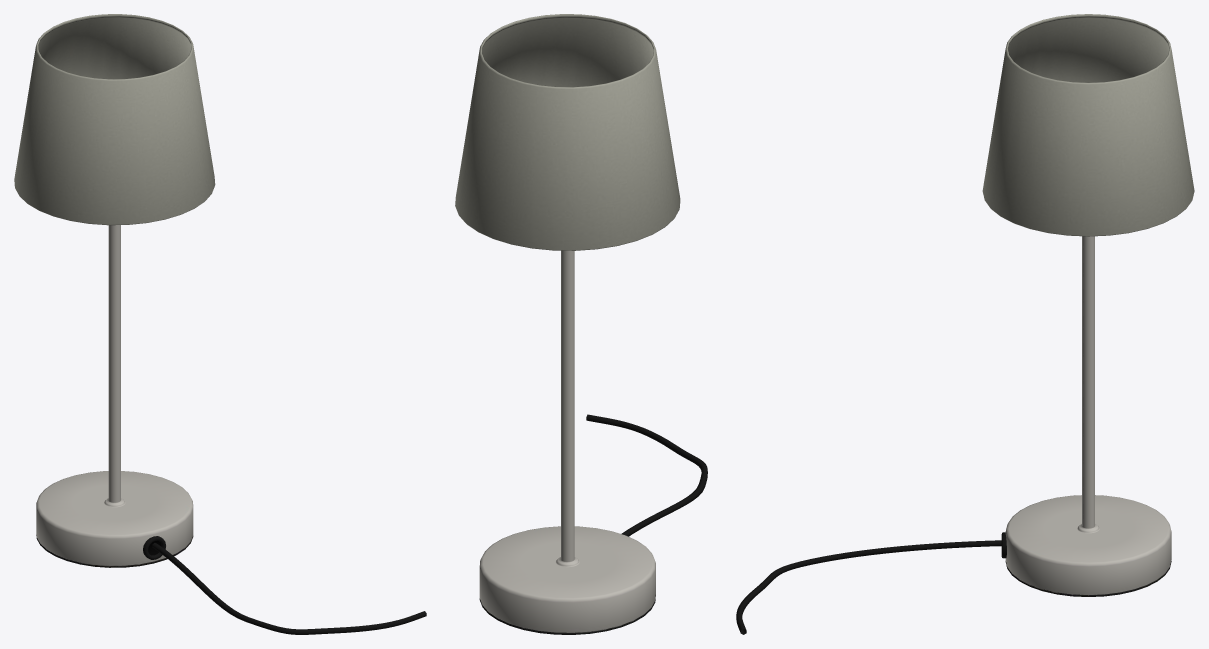
The picture shows the model from 3 angles, left to right: view 1: azimuth 30°, elevation 25°; view 2: azimuth 150°, elevation 25°; view 3: azimuth 270°, elevation 25°; orthographic projection. The views are drawn at different scales.
Parts seen in each view (by area): view 1: Lamp; view 2: Lamp; view 3: Lamp.
Boxes of the visible parts, x1,y1,x2,y2 form: Lamp: (14, 14, 426, 634); Lamp: (455, 14, 707, 634); Lamp: (736, 14, 1194, 634).
Bounding box in the file's own units: 343 × 683 × 552.
1 material, 1 textured.
